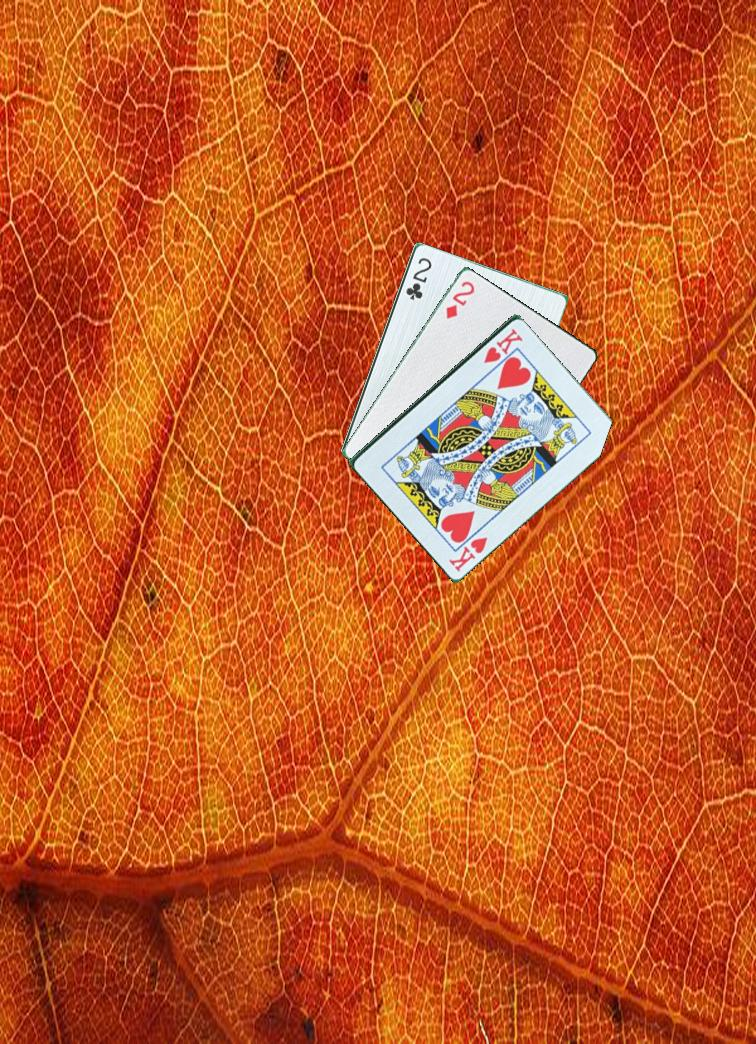2c: (402, 253, 435, 303)
2d: (442, 272, 482, 322)
kh: (480, 324, 524, 367), (445, 533, 490, 574)
